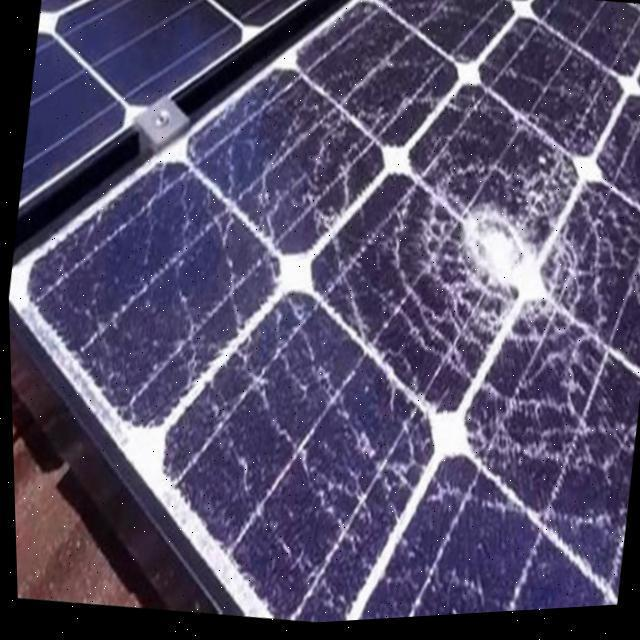Anomaly Solar Panel: (7, 0, 640, 625)
Normal Solar Panel: (18, 0, 311, 203)
Structural Damage: (370, 131, 640, 399)
